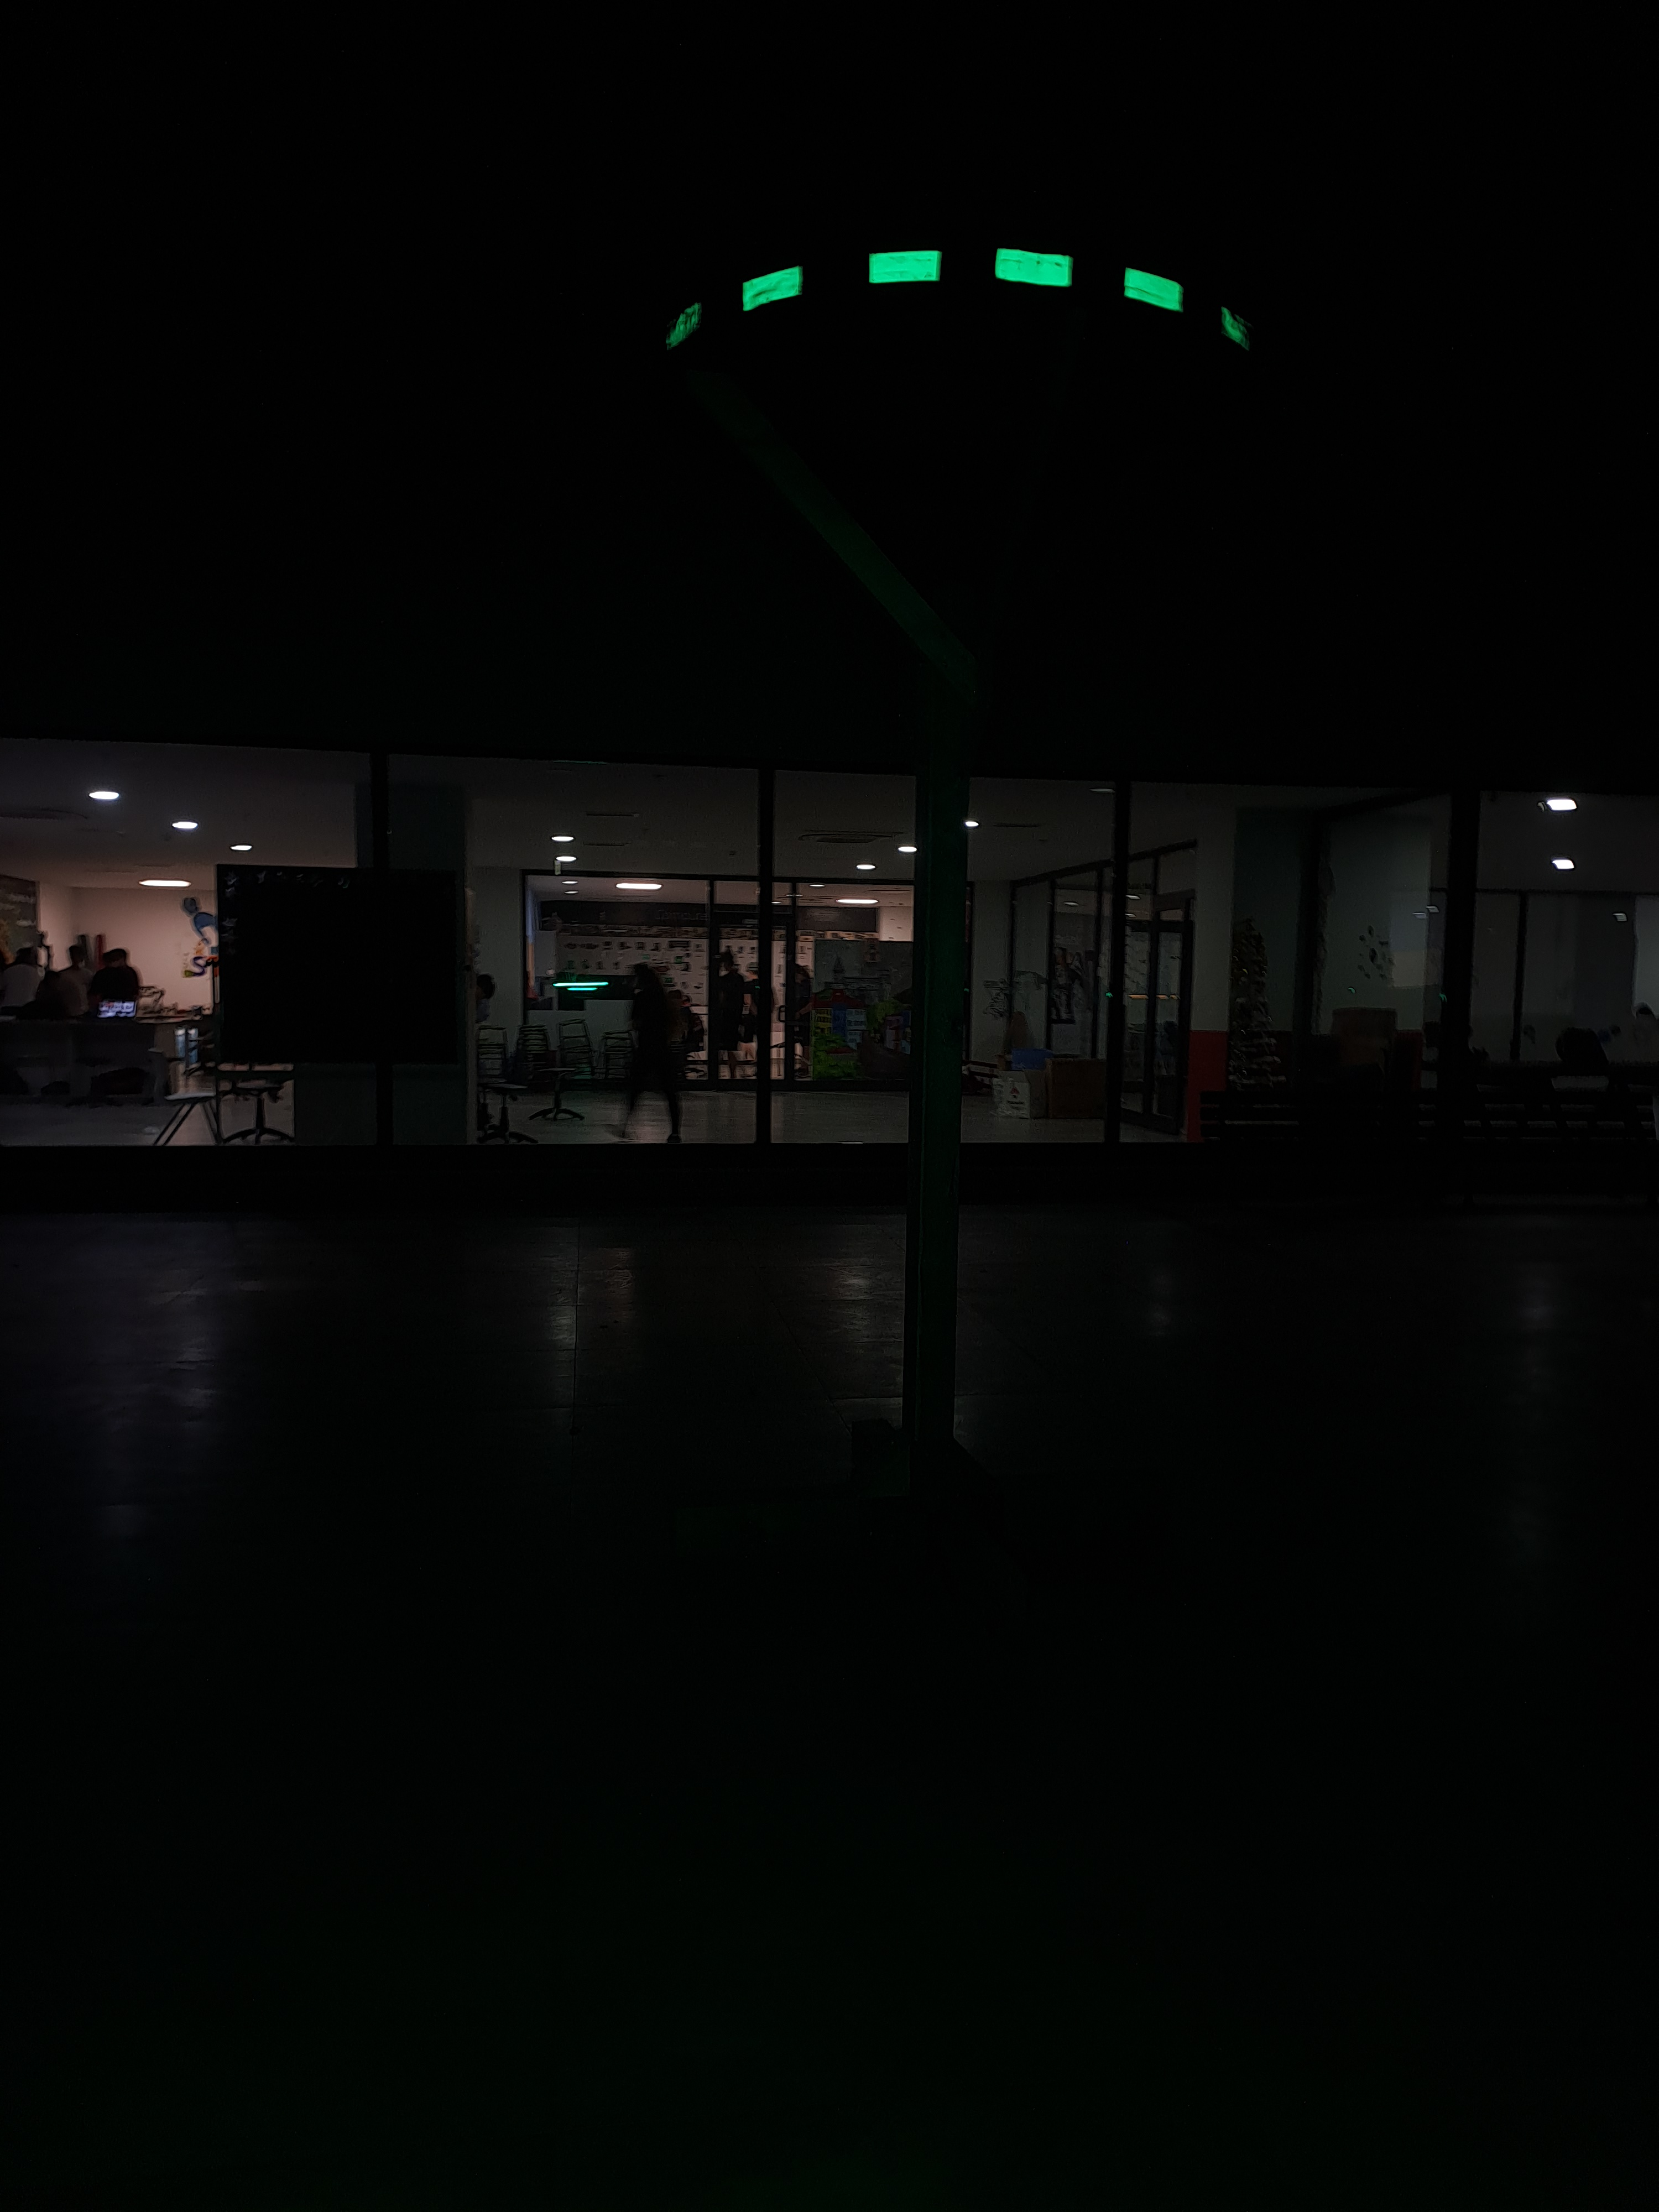hoop: (664, 233, 1256, 359)
